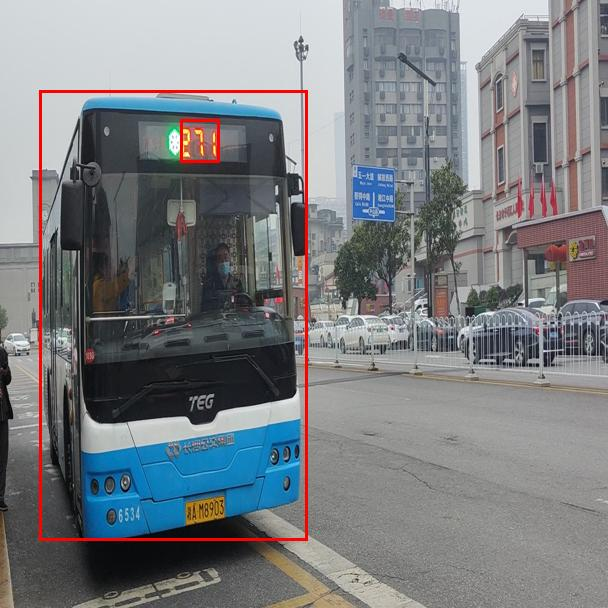bus: (39, 90, 307, 540)
screen: (180, 119, 219, 162)
